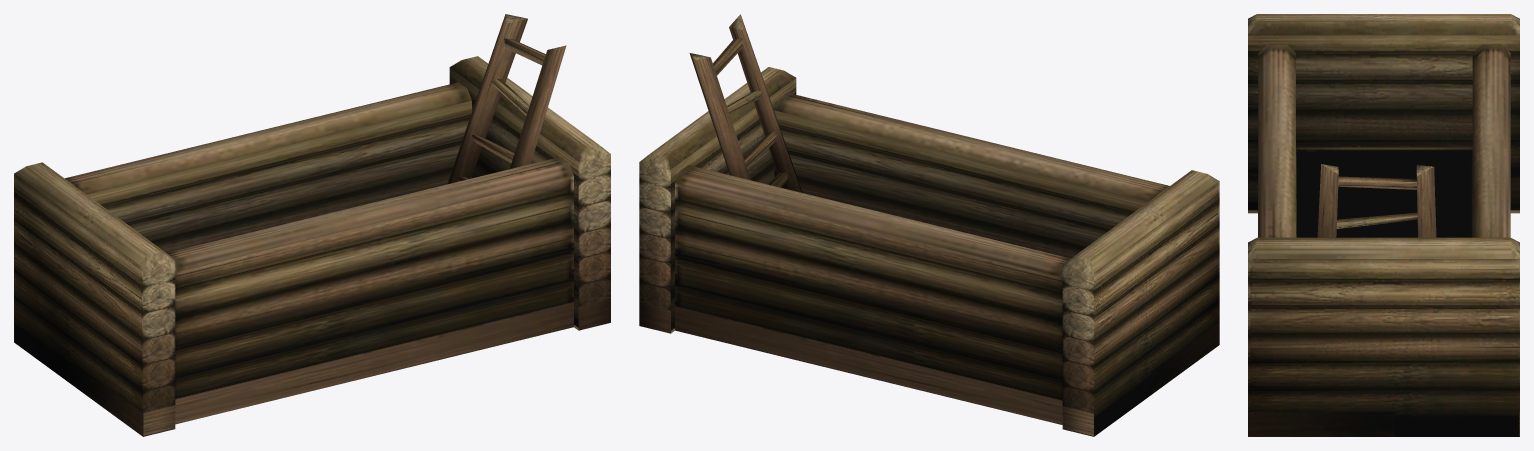
The model's file is stbuho9.dae.
3 views of the same model, side by side, from view 1: azimuth 30°, elevation 25°; view 2: azimuth 150°, elevation 25°; view 3: azimuth 270°, elevation 25° (orthographic). The views are drawn at different scales.
Visible parts, largest first — view 1: goblinhouse01; view 2: goblinhouse01; view 3: goblinhouse01.
Boxes of the visible parts, left/top/right/bottom form: goblinhouse01: left=14, top=14, right=610, bottom=436; goblinhouse01: left=639, top=14, right=1219, bottom=436; goblinhouse01: left=1248, top=14, right=1519, bottom=436.
Size of the model in its own units: 1.94 by 0.9271 by 1.01.
1 material, 1 textured.
